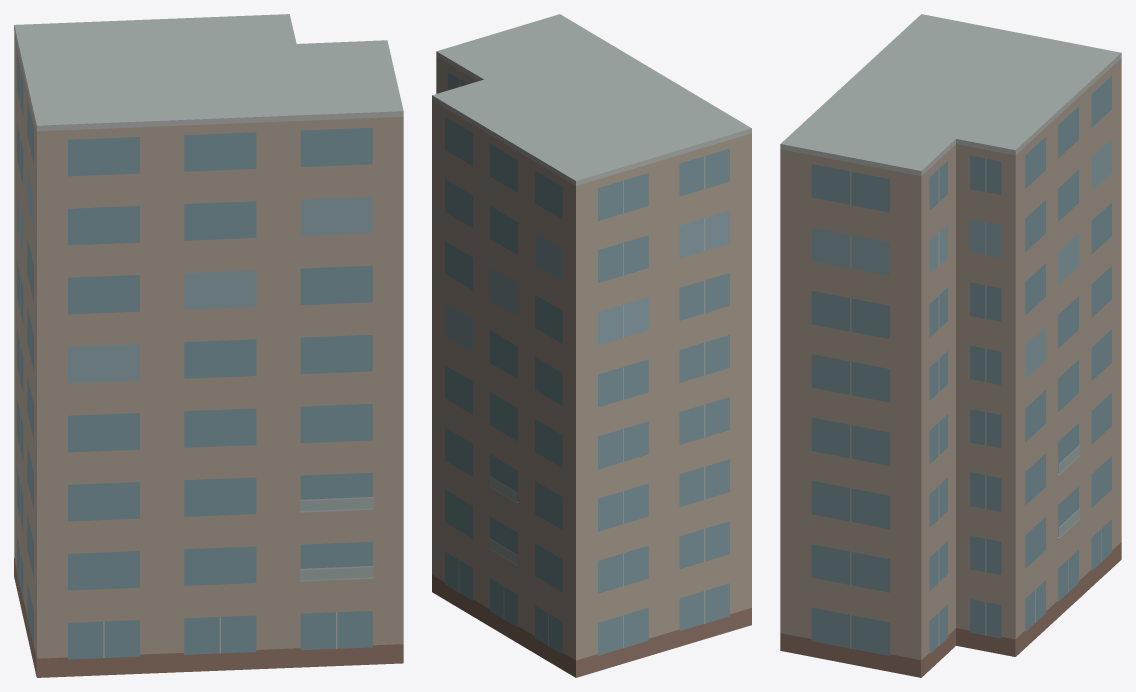
Rendered from survey-upis-32529007.glb.
3 renders of one model, left to right at view 1: azimuth 30°, elevation 25°; view 2: azimuth 150°, elevation 25°; view 3: azimuth 270°, elevation 25°, orthographic. The views are drawn at different scales.
Visible parts, largest first — view 1: survey-upis-32529007.tmp; view 2: survey-upis-32529007.tmp; view 3: survey-upis-32529007.tmp.
Boxes of the visible parts, <box> form: survey-upis-32529007.tmp: <box>14,14,403,677</box>; survey-upis-32529007.tmp: <box>432,14,751,677</box>; survey-upis-32529007.tmp: <box>780,14,1121,677</box>.
Bounding box in the file's own units: 15.96 × 24 × 14.65.
